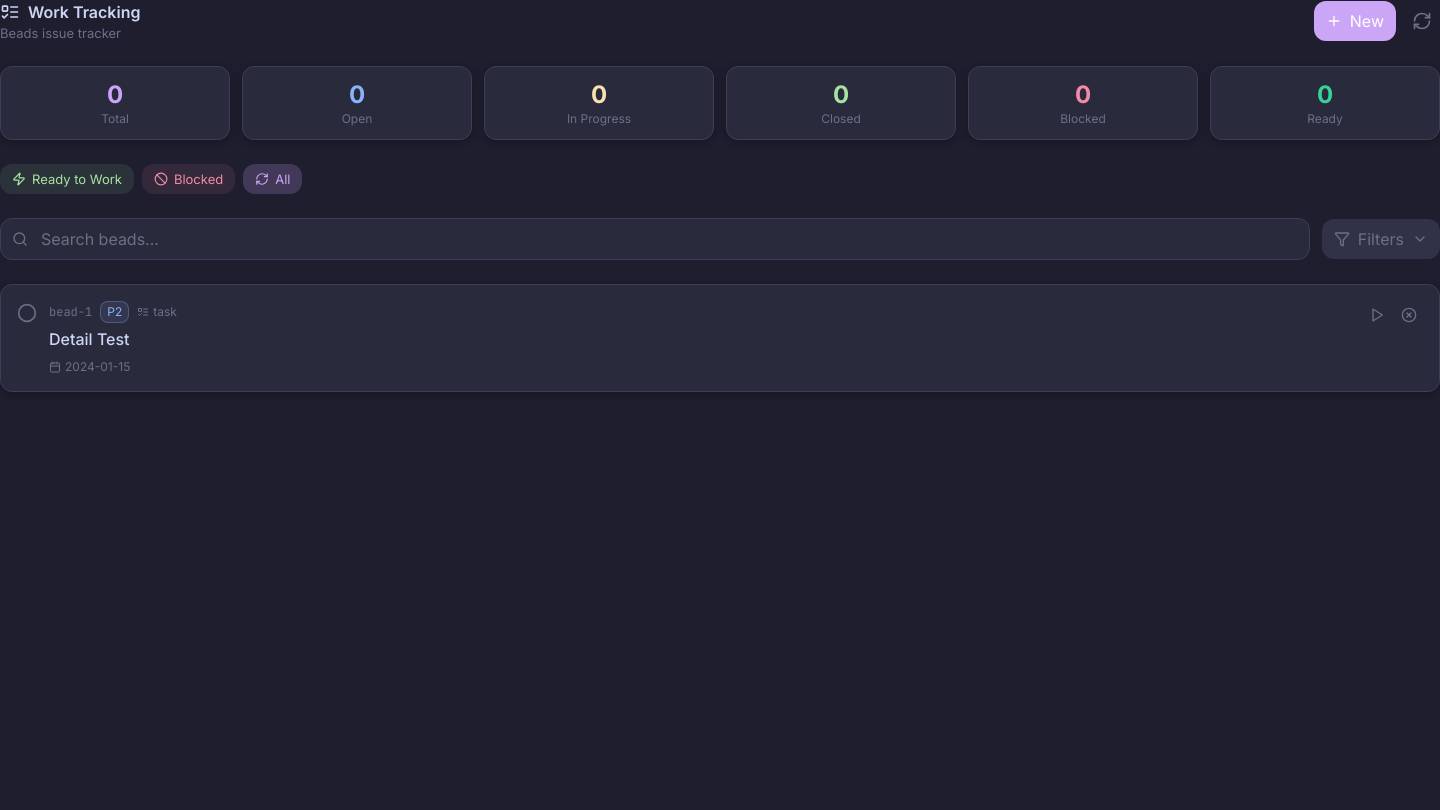
Scenario: BeadsPanel › opens detail modal when clicking a bead
# Click on the bead card
Click the heading "Detail Test": (89,339) [49,329,130,349]
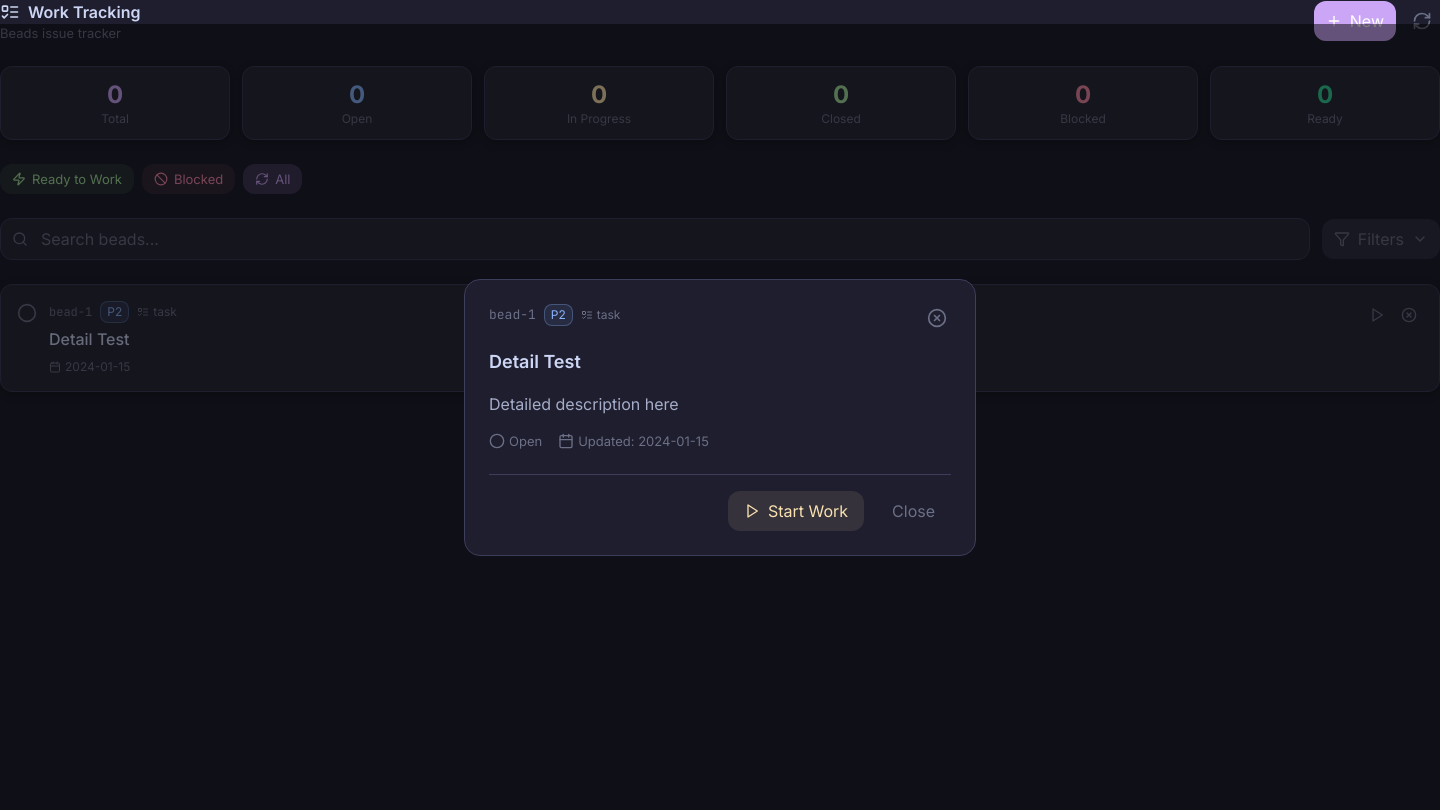
Expected: the text "Detailed description here" is shown, [489,394,679,414]
